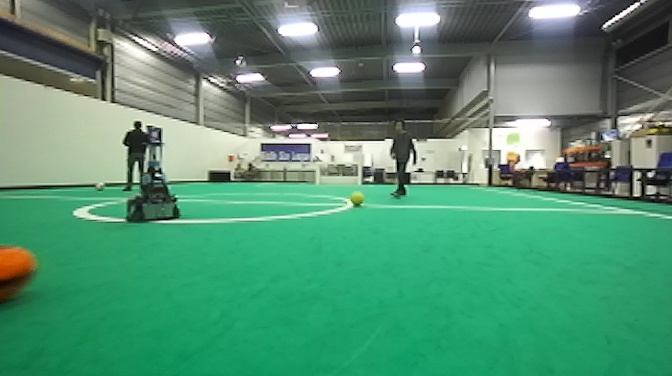ball: (1, 243, 45, 310), (348, 189, 369, 212), (93, 179, 106, 194)
goal: (313, 160, 364, 188)
goalpost: (355, 160, 364, 188), (314, 161, 321, 187)
human: (384, 120, 419, 201), (122, 117, 151, 193)
robot: (123, 138, 183, 225)
